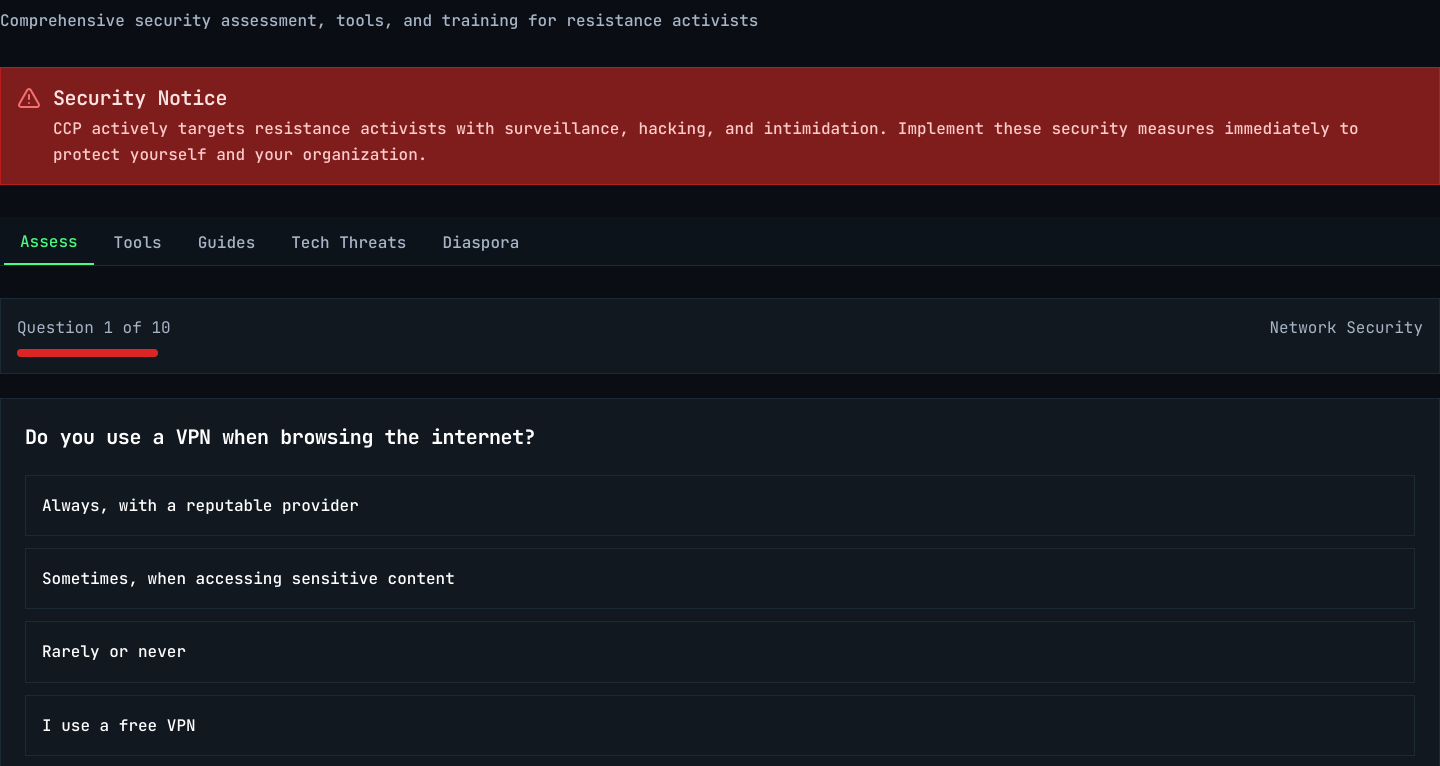
Test: SecurityCenter › shows witness protection section in Guides tab (merged from Protect)
The image size is (1440, 766).
Click the button "Guides" at (226, 243), box [182,221,271,265]
(page scrolled)
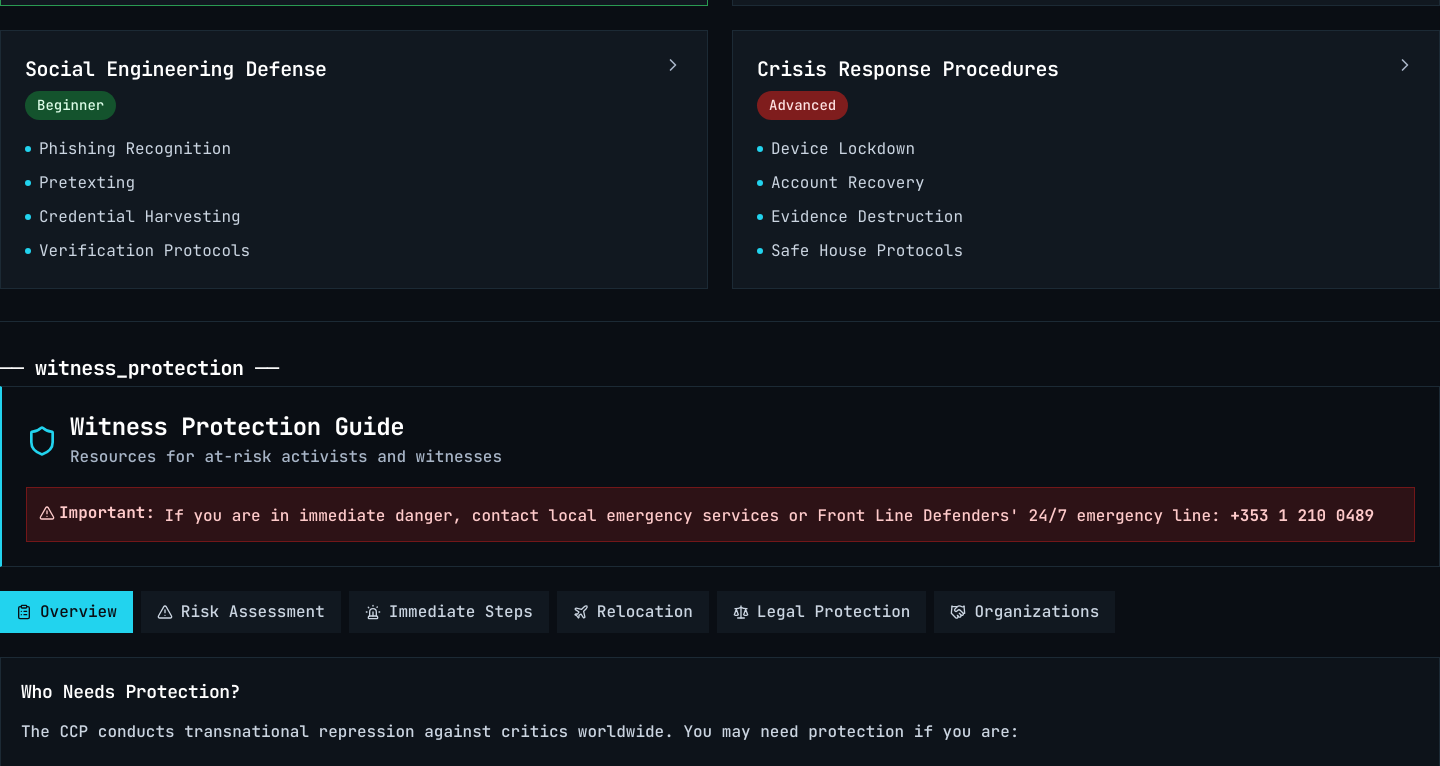
Now the heading "── witness_protection ──" is shown, box [0,355,279,381]
